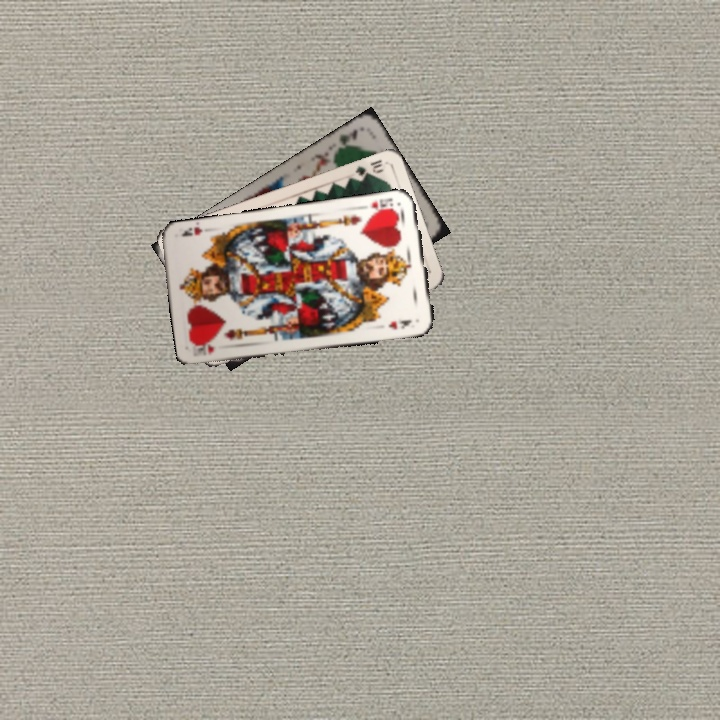G10: (351, 155, 386, 181)
GK: (335, 124, 361, 147)
HK: (367, 194, 399, 216), (191, 342, 217, 358)
